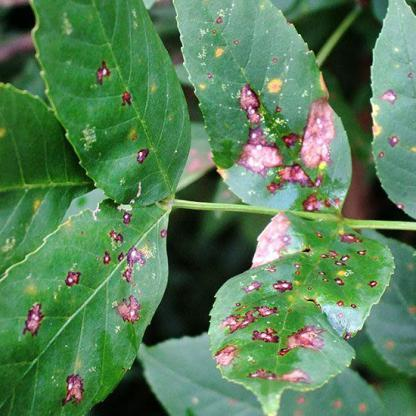Apple rust leaf: (171, 2, 362, 224), (3, 204, 188, 416), (203, 218, 386, 416), (72, 31, 187, 206)
